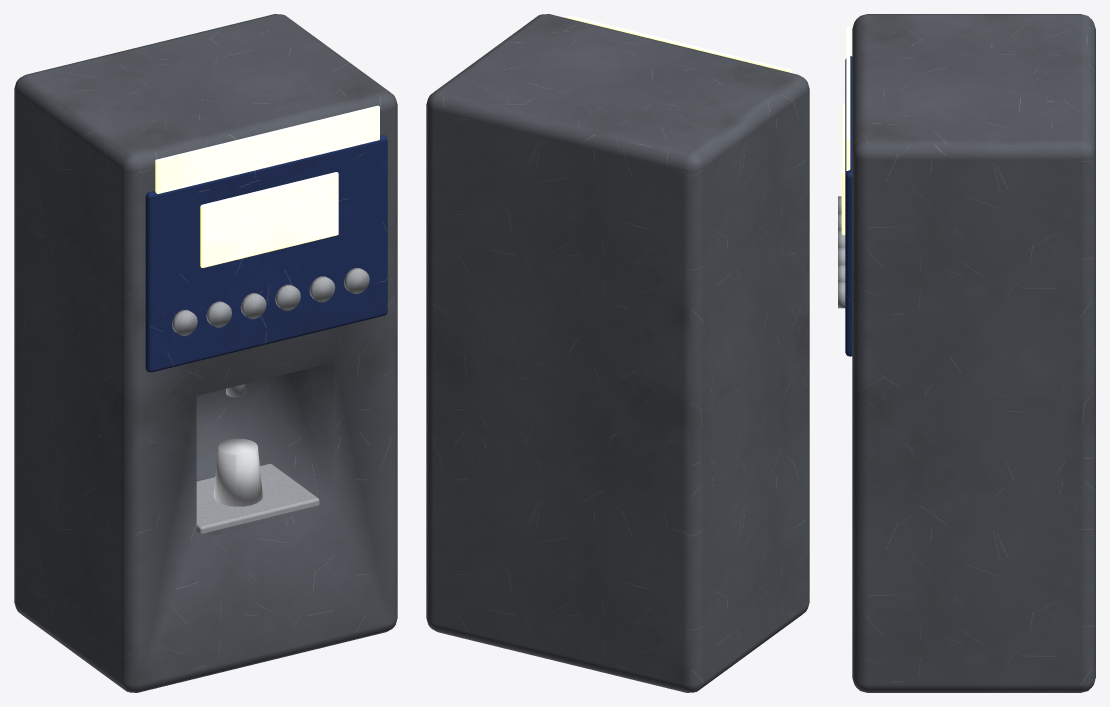
Rendered from CoffeeMachine.glb.
3 views of the same model, side by side, from view 1: azimuth 30°, elevation 25°; view 2: azimuth 150°, elevation 25°; view 3: azimuth 270°, elevation 25° (orthographic). The views are drawn at different scales.
Visible parts, largest first — view 1: CoffeeMachine_MetalGrey, CoffeeMachine_MetalNavy, CoffeeMachine_PlasticWhite_glow.004, CoffeeMachine_Steel, CoffeeMachine_PlasticWhite; view 2: CoffeeMachine_MetalGrey, CoffeeMachine_PlasticWhite_glow.004; view 3: CoffeeMachine_MetalGrey, CoffeeMachine_MetalNavy, CoffeeMachine_PlasticWhite_glow.004, CoffeeMachine_Steel.
Part boxes in pixels (x1,y1,x2,y2): CoffeeMachine_MetalGrey: [14, 14, 397, 692]; CoffeeMachine_MetalNavy: [145, 135, 387, 372]; CoffeeMachine_PlasticWhite_glow.004: [155, 105, 379, 267]; CoffeeMachine_Steel: [172, 268, 369, 533]; CoffeeMachine_PlasticWhite: [213, 438, 262, 506]; CoffeeMachine_MetalGrey: [426, 14, 809, 692]; CoffeeMachine_PlasticWhite_glow.004: [567, 15, 791, 72]; CoffeeMachine_MetalGrey: [852, 14, 1095, 692]; CoffeeMachine_MetalNavy: [845, 56, 852, 356]; CoffeeMachine_PlasticWhite_glow.004: [841, 26, 850, 235]; CoffeeMachine_Steel: [838, 196, 845, 308].
Size of the model in its own units: 3.2 by 6 by 2.54.
Materials: 5 (5 with a texture image).
